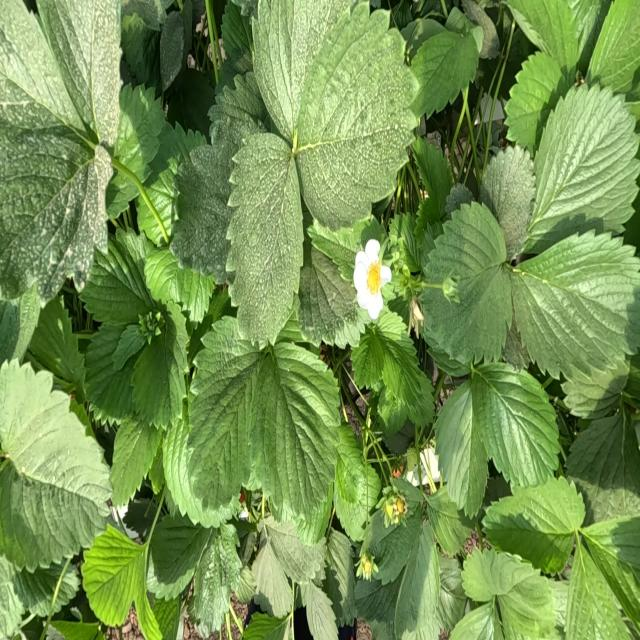Flowers: (354, 241, 390, 318)
Leaves: (1, 1, 106, 299), (296, 12, 416, 230), (0, 365, 111, 568), (247, 341, 340, 543), (513, 231, 639, 380), (529, 85, 638, 248), (228, 132, 303, 345), (187, 316, 264, 522), (423, 203, 511, 362), (252, 0, 345, 142), (37, 0, 121, 144), (474, 362, 559, 489), (25, 296, 95, 437), (483, 476, 583, 571), (172, 142, 231, 281), (136, 120, 201, 245), (81, 228, 164, 324), (410, 8, 479, 117), (372, 311, 434, 429), (435, 377, 487, 516), (132, 302, 188, 427), (565, 544, 632, 639), (82, 526, 146, 625), (298, 244, 359, 346), (505, 52, 564, 153), (566, 409, 639, 490), (481, 147, 534, 258), (209, 73, 266, 176), (84, 322, 143, 421), (491, 551, 555, 639), (308, 215, 387, 284), (143, 245, 213, 322), (334, 425, 379, 539), (193, 523, 239, 634), (112, 85, 164, 183), (395, 521, 439, 636), (506, 0, 577, 69), (111, 414, 160, 507), (588, 0, 639, 89), (151, 511, 211, 584), (265, 509, 325, 580), (367, 508, 422, 583), (563, 361, 627, 420), (166, 68, 215, 139), (251, 536, 293, 617), (426, 487, 473, 554), (0, 289, 41, 365), (412, 137, 452, 214), (11, 564, 63, 616), (160, 3, 191, 90), (326, 531, 355, 623), (461, 0, 499, 59), (299, 581, 337, 639), (450, 599, 503, 639), (352, 327, 383, 389), (389, 213, 421, 273), (221, 0, 252, 60), (461, 548, 496, 601), (1, 555, 22, 637), (243, 609, 293, 639), (125, 1, 169, 29), (54, 566, 79, 611)
Strawberries: (382, 492, 406, 525), (404, 453, 421, 488), (356, 553, 377, 579), (442, 277, 459, 303), (421, 476, 429, 489)
